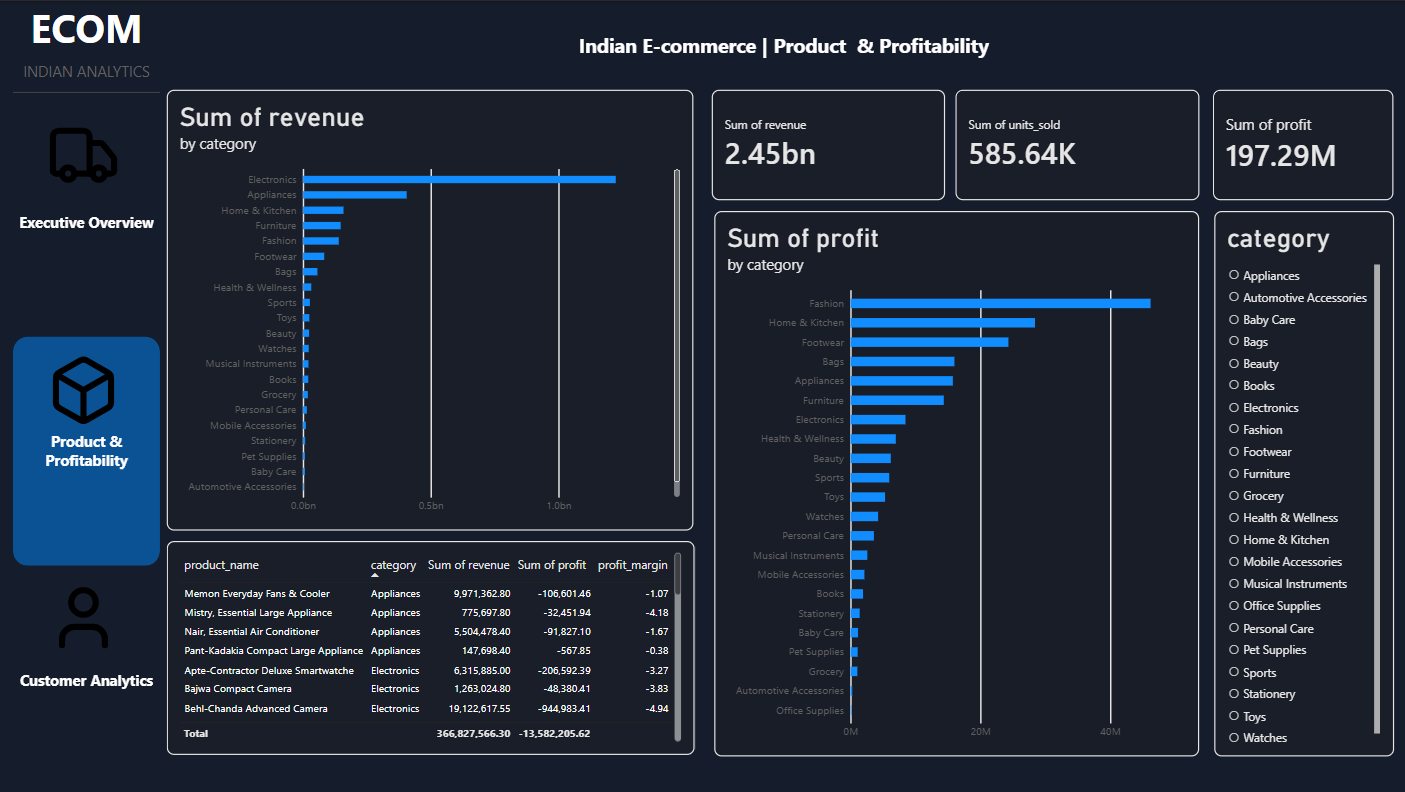

The dashboard page shown, as its layout file describes it:
{"tool":"powerbi","page":{"name":"Product & Profitability","canvas":[1920,1080],"ordinal":1},"visuals":[{"type":"clusteredBarChart","fields":{"Category":["indian_ecommerce vw_product_performance.category"],"Y":["Sum(indian_ecommerce vw_product_performance.revenue)"]},"box":[230,120.6,716.9,599.6],"z":0},{"type":"clusteredBarChart","fields":{"Category":["indian_ecommerce vw_product_performance.category"],"Y":["Sum(indian_ecommerce vw_product_performance.profit)"]},"box":[974.8,285,659.9,742],"z":1000},{"type":"tableEx","fields":{"Values":["indian_ecommerce vw_product_performance.product_name","indian_ecommerce vw_product_performance.category","Sum(indian_ecommerce vw_product_performance.revenue)","Sum(indian_ecommerce vw_product_performance.profit)","indian_ecommerce vw_product_performance.profit_margin"]},"box":[230,735.3,718.6,291.4],"z":2000},{"type":"cardVisual","fields":{"Data":["Sum(indian_ecommerce vw_product_performance.profit)"]},"box":[1654,120,245.4,150],"z":3000},{"type":"cardVisual","fields":{"Data":["Sum(indian_ecommerce vw_product_performance.units_sold)"]},"box":[1303.4,120,332,150],"z":4000},{"type":"listSlicer","fields":{"Values":["indian_ecommerce vw_product_performance.category"]},"box":[1654.8,285,244.5,742],"z":5000},{"type":"textbox","box":[790,41.9,560,50.2],"z":6000},{"type":"pageNavigator","title":"ECOM","box":[20,0,200,1080.6],"z":7000},{"type":"cardVisual","fields":{"Data":["Sum(indian_ecommerce vw_product_performance.revenue)"]},"box":[971.5,120,317.6,150],"z":8000},{"type":"image","box":[66,160,100,100],"z":9000},{"type":"image","box":[66,480,100,100],"z":10000},{"type":"image","box":[66,790,100,100],"z":11000}]}

Visuals, with their boxes in screenshot pixels (x1, y1, x2, y2), scaled from the page's 1920x1080 canvas onto the 1405x792 screenshot:
clusteredBarChart - indian_ecommerce vw_product_performance.category x Sum(indian_ecommerce vw_product_performance.revenue): detection(168, 88, 693, 528)
clusteredBarChart - indian_ecommerce vw_product_performance.category x Sum(indian_ecommerce vw_product_performance.profit): detection(713, 209, 1196, 753)
tableEx - indian_ecommerce vw_product_performance.product_name x indian_ecommerce vw_product_performance.category: detection(168, 539, 694, 753)
cardVisual - Sum(indian_ecommerce vw_product_performance.profit): detection(1210, 88, 1390, 198)
cardVisual - Sum(indian_ecommerce vw_product_performance.units_sold): detection(954, 88, 1197, 198)
listSlicer - indian_ecommerce vw_product_performance.category: detection(1211, 209, 1390, 753)
textbox: detection(578, 31, 988, 68)
"ECOM" pageNavigator: detection(15, 0, 161, 791)
cardVisual - Sum(indian_ecommerce vw_product_performance.revenue): detection(711, 88, 943, 198)
image: detection(48, 117, 121, 191)
image: detection(48, 352, 121, 425)
image: detection(48, 579, 121, 653)
